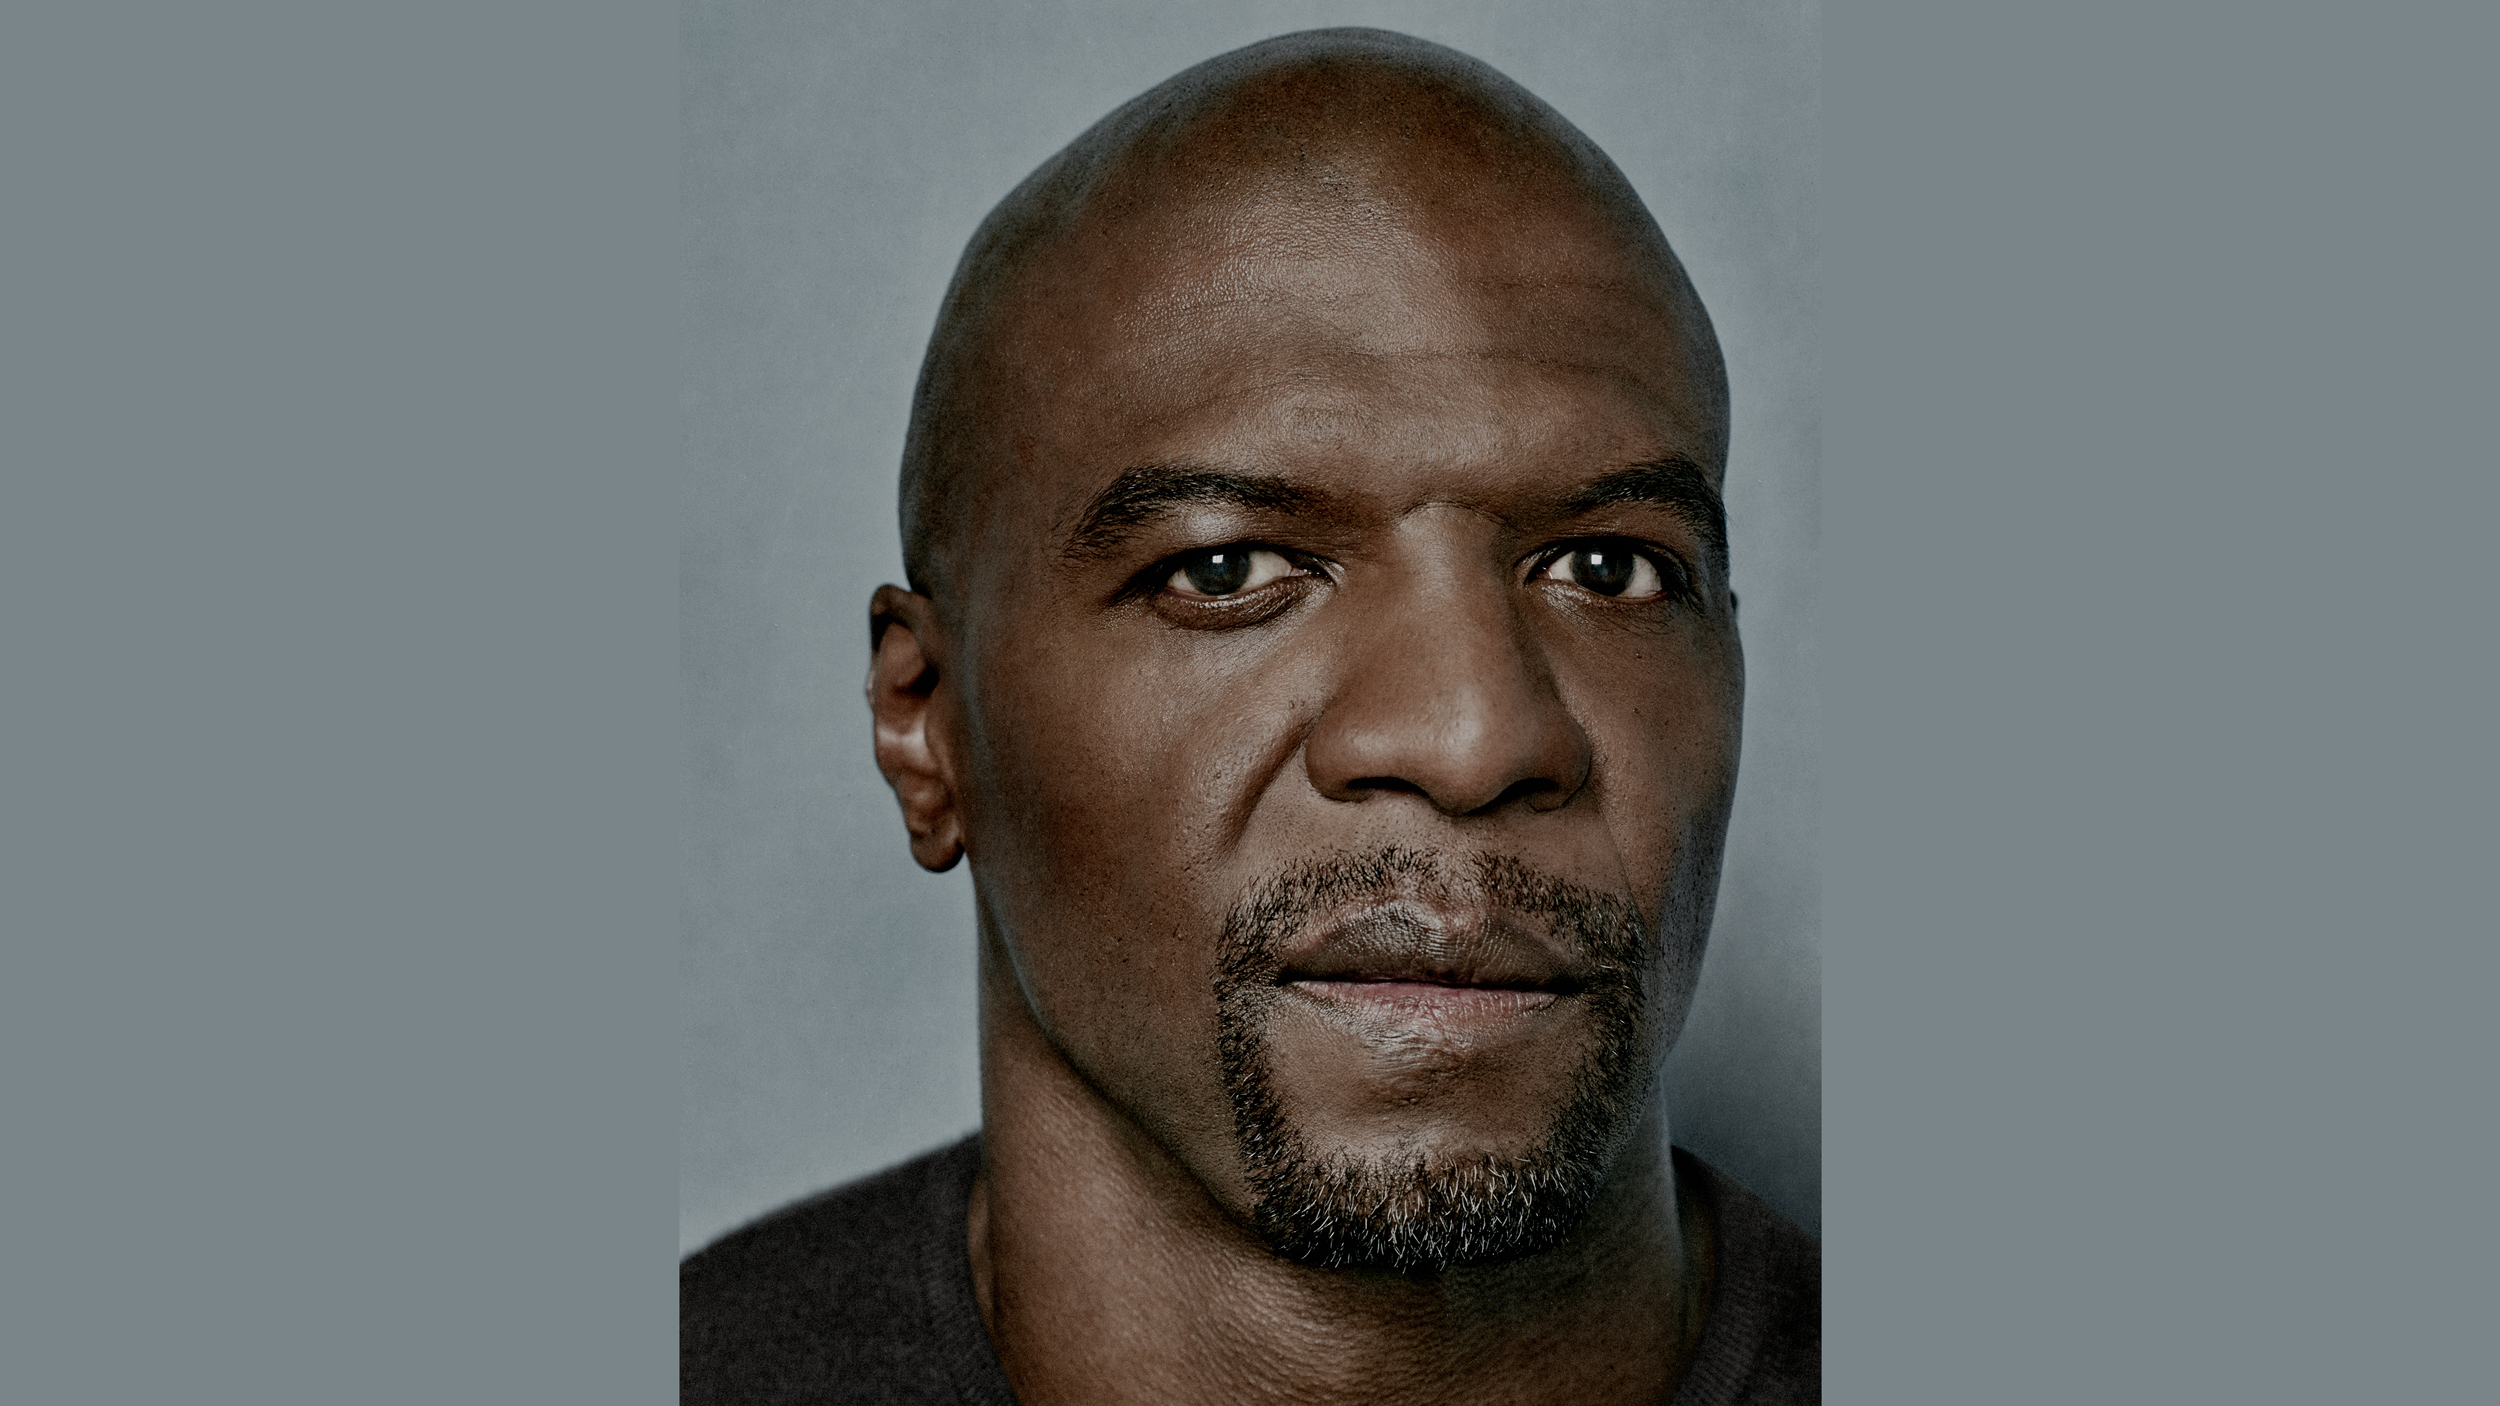human: (673, 20, 1827, 1406)
